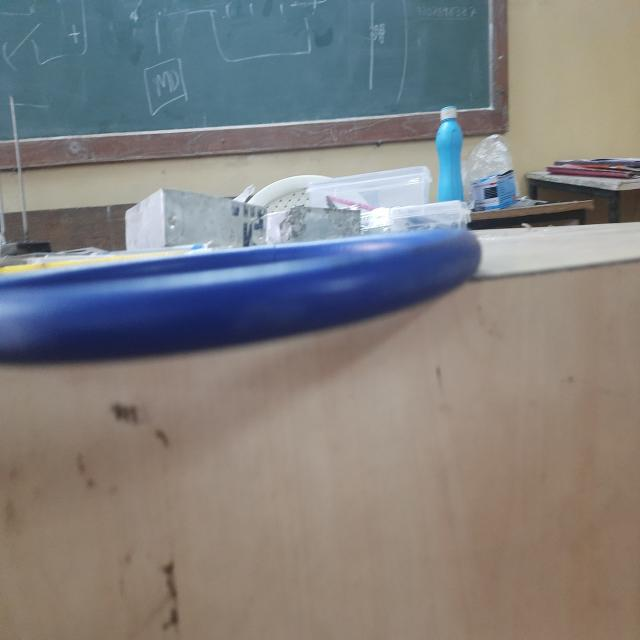daire: (5, 235, 469, 356)
